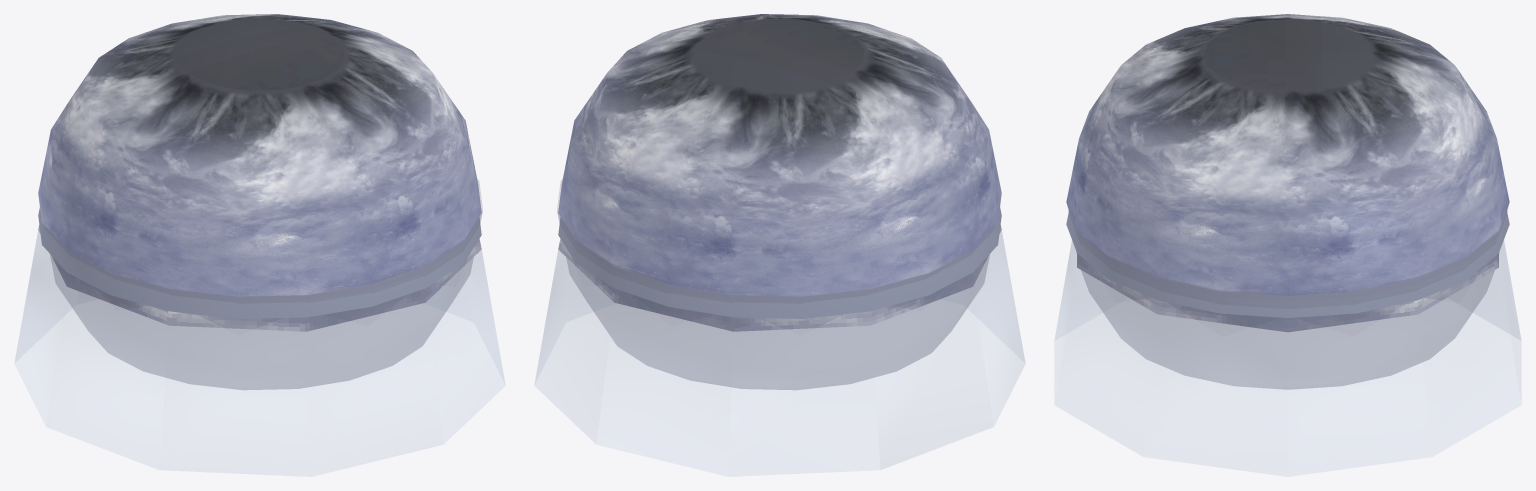
The model's file is stage-alas-sky.glb.
The picture shows the model from 3 angles, left to right: view 1: azimuth 30°, elevation 25°; view 2: azimuth 150°, elevation 25°; view 3: azimuth 270°, elevation 25°; orthographic projection.
Visible parts, largest first — view 1: sky; view 2: sky; view 3: sky.
Boxes of the visible parts, box(x1,y1,x2,y2) form: sky: box(14, 14, 505, 476); sky: box(534, 14, 1025, 476); sky: box(1054, 14, 1521, 476).
Size of the model in its own units: 3283 by 2402 by 3122.
5 materials, 3 textured.
